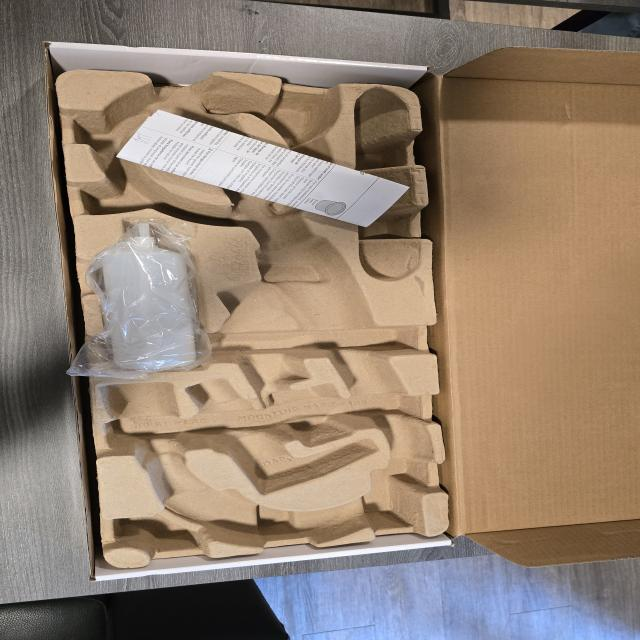1m: (102, 72, 432, 543)
2m: (187, 381, 378, 494)
3: (100, 223, 204, 372)
4m: (347, 86, 422, 280)
5m: (268, 91, 334, 141)
6m: (72, 100, 155, 149)
7m: (84, 163, 194, 215)
8: (115, 111, 412, 230)
